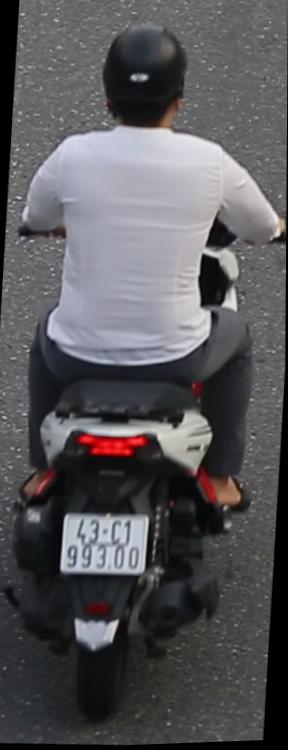LP: (57, 507, 154, 588)
helmet: (95, 15, 194, 151)
